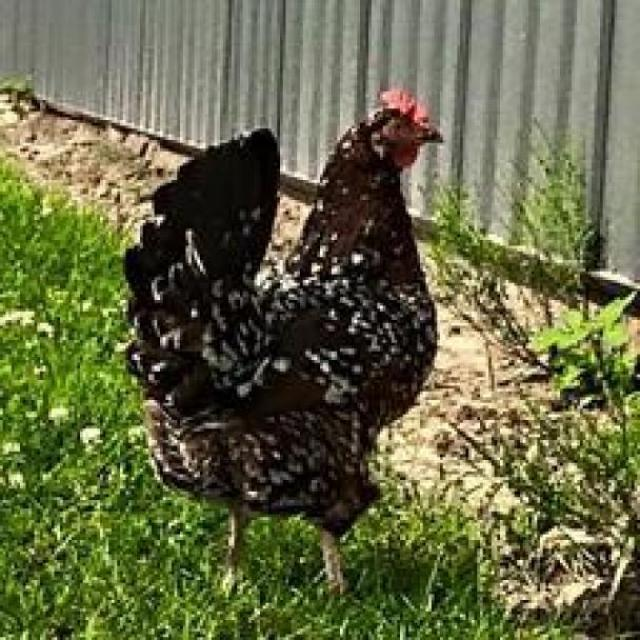Chicken: (62, 64, 494, 640)
